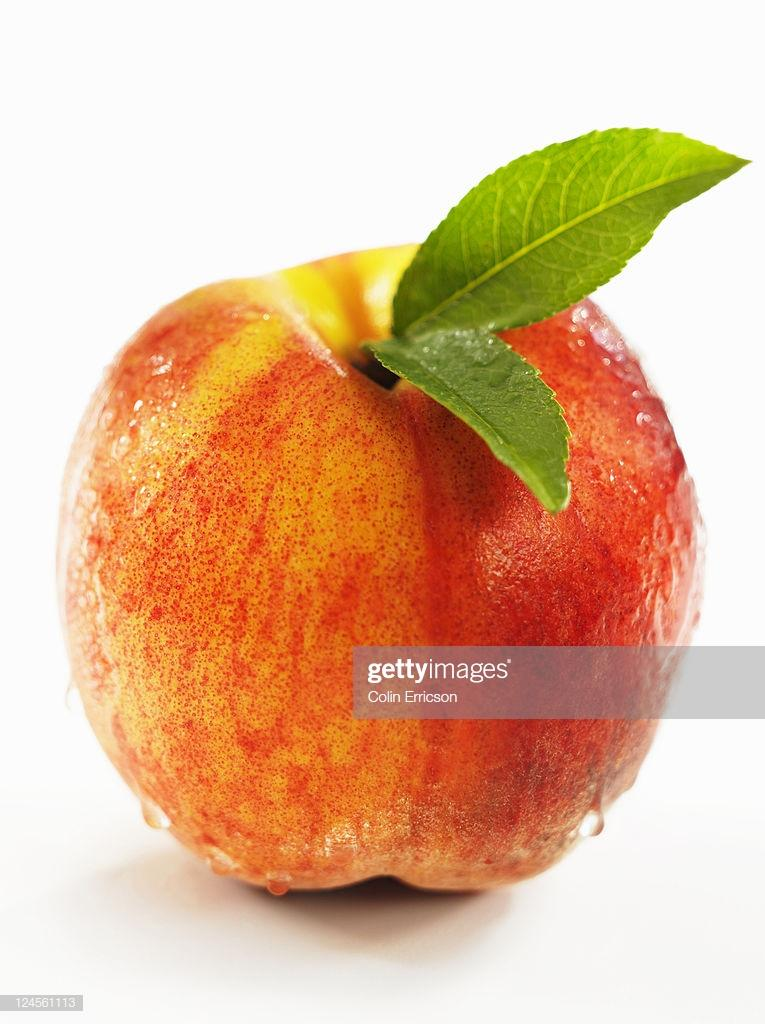Peach leaf: (390, 118, 754, 345), (370, 318, 580, 515)
